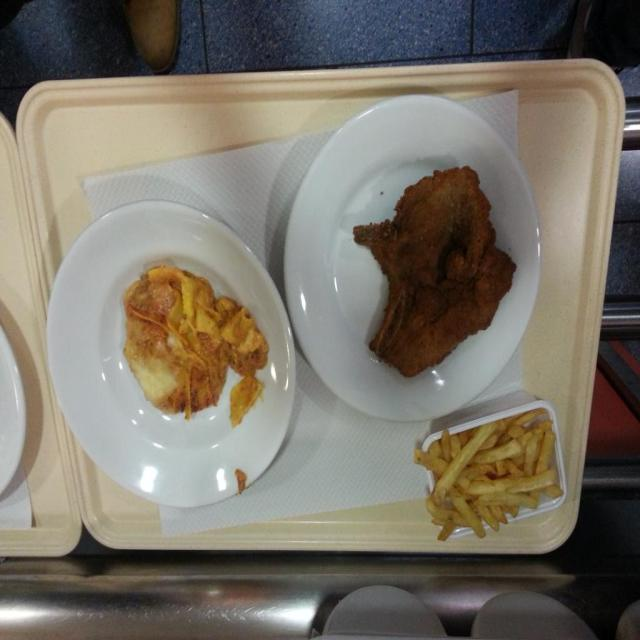plate: (279, 82, 539, 420), (42, 192, 297, 503), (422, 396, 573, 536)
